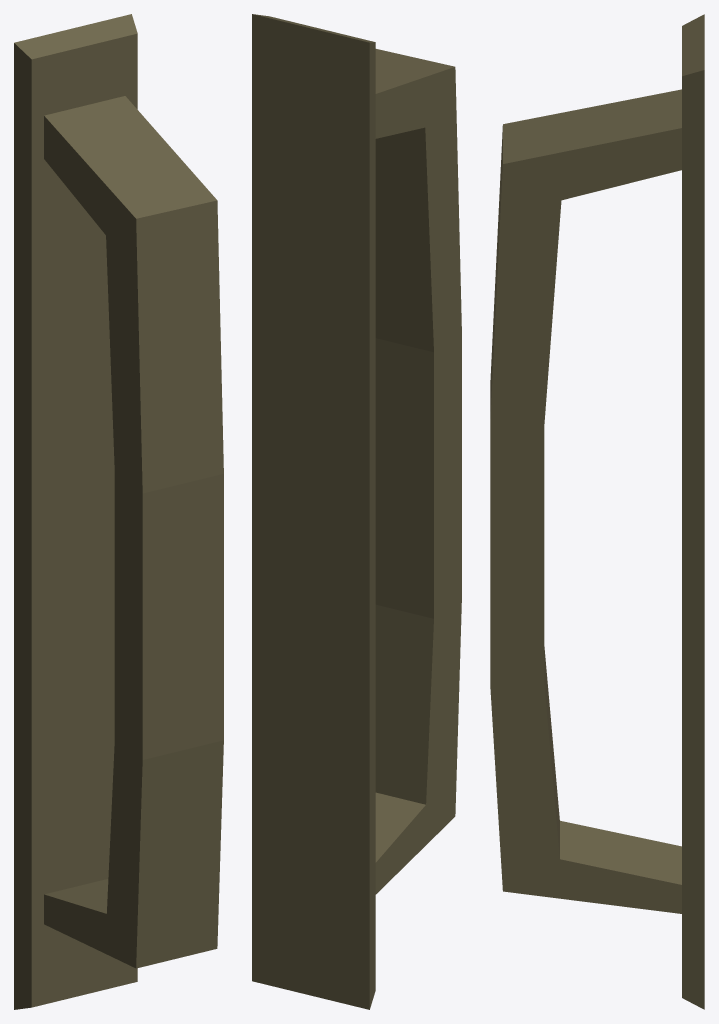
File: SW_ENV_Wires3_StationWallTie.fbx
3 renders of one model, left to right at view 1: azimuth 30°, elevation 25°; view 2: azimuth 150°, elevation 25°; view 3: azimuth 270°, elevation 25°, orthographic. The views are drawn at different scales.
Visible parts, largest first — view 1: SW_ENV_Wires3_StationWallTie; view 2: SW_ENV_Wires3_StationWallTie; view 3: SW_ENV_Wires3_StationWallTie.
Part boxes in pixels (<box>): SW_ENV_Wires3_StationWallTie: <box>14,14,223,1009</box>; SW_ENV_Wires3_StationWallTie: <box>252,14,461,1009</box>; SW_ENV_Wires3_StationWallTie: <box>490,14,704,1009</box>.
Size of the model in its own units: 4.35 by 34.12 by 7.06.
